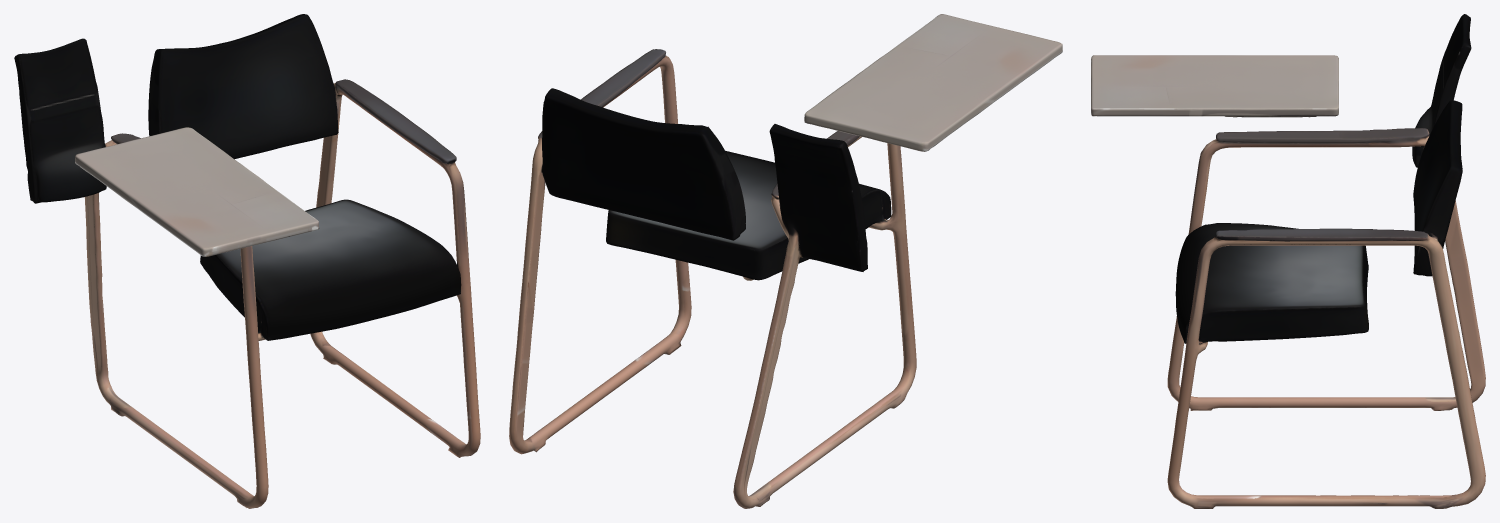
The model's file is selected.glb.
3 views of the same model, side by side, from view 1: azimuth 30°, elevation 25°; view 2: azimuth 150°, elevation 25°; view 3: azimuth 270°, elevation 25° (orthographic). The views are drawn at different scales.
Visible parts, largest first — view 1: model; view 2: model; view 3: model.
Boxes of the visible parts, x1,y1,x2,y2 form: model: (14, 14, 480, 508); model: (509, 14, 1062, 508); model: (1091, 14, 1485, 508).
Bounding box in the file's own units: 1.7 × 1.87 × 1.89.
1 material, 1 textured.
